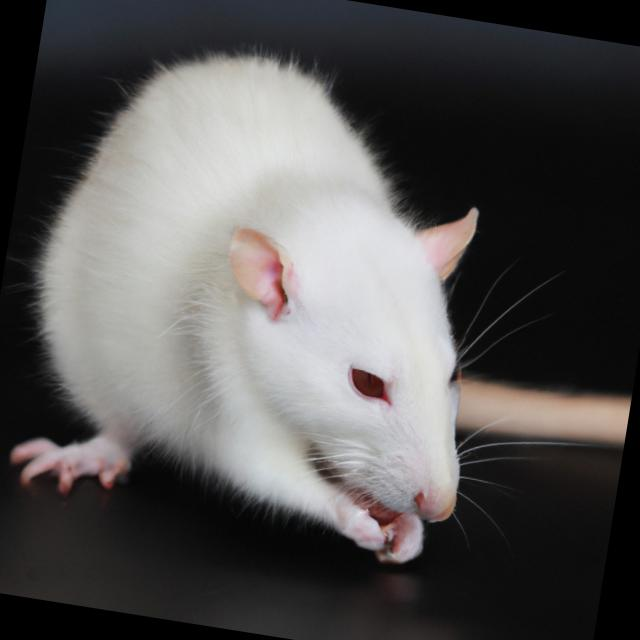rodents: (0, 16, 550, 585)
